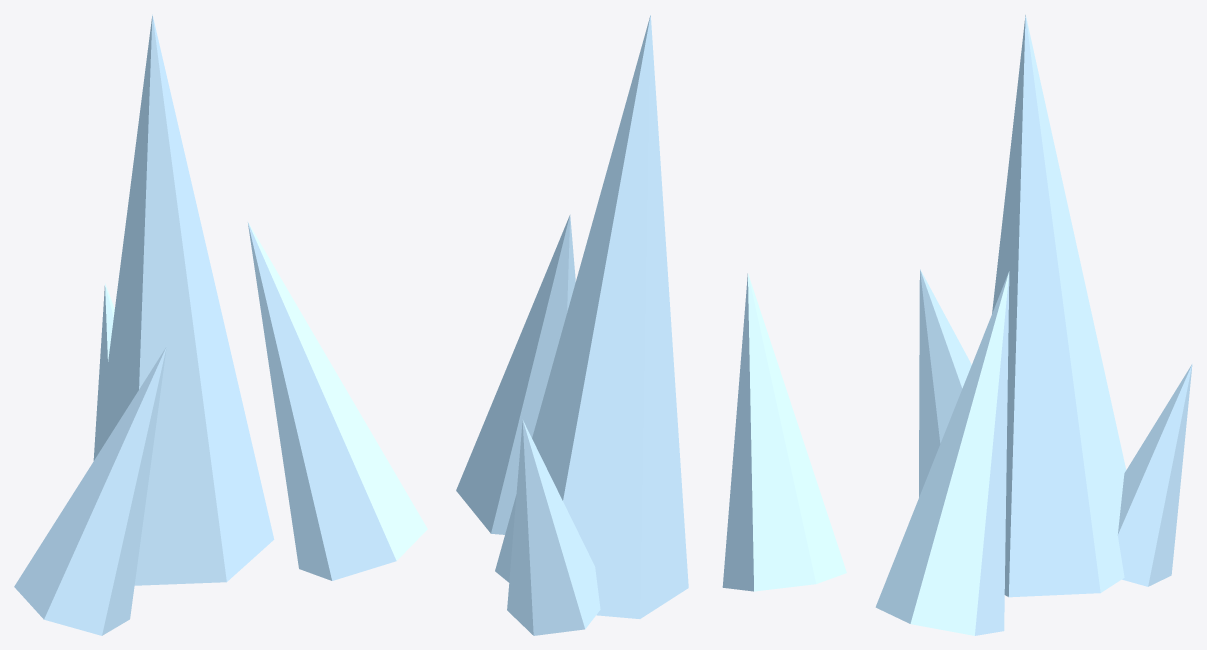
File: ice-spire.glb
3 views of the same model, side by side, from view 1: azimuth 30°, elevation 25°; view 2: azimuth 150°, elevation 25°; view 3: azimuth 270°, elevation 25° (orthographic). The views are drawn at different scales.
Visible parts, largest first — view 1: ice; view 2: ice; view 3: ice.
Boxes of the visible parts, <box> form: ice: <box>14,14,427,635</box>; ice: <box>456,15,846,635</box>; ice: <box>875,15,1192,635</box>.
Bounding box in the file's own units: 1.25 × 1.83 × 0.9653.
